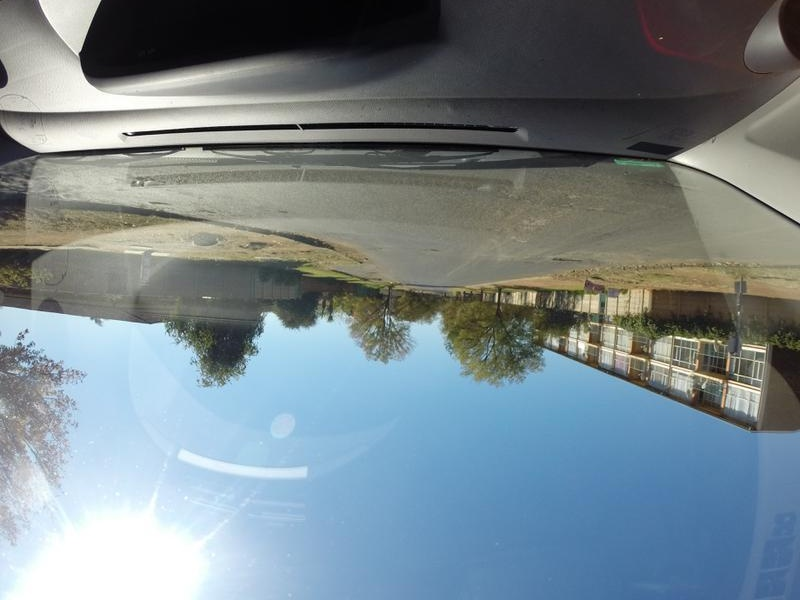pothole: (552, 248, 596, 268), (423, 242, 450, 258)
